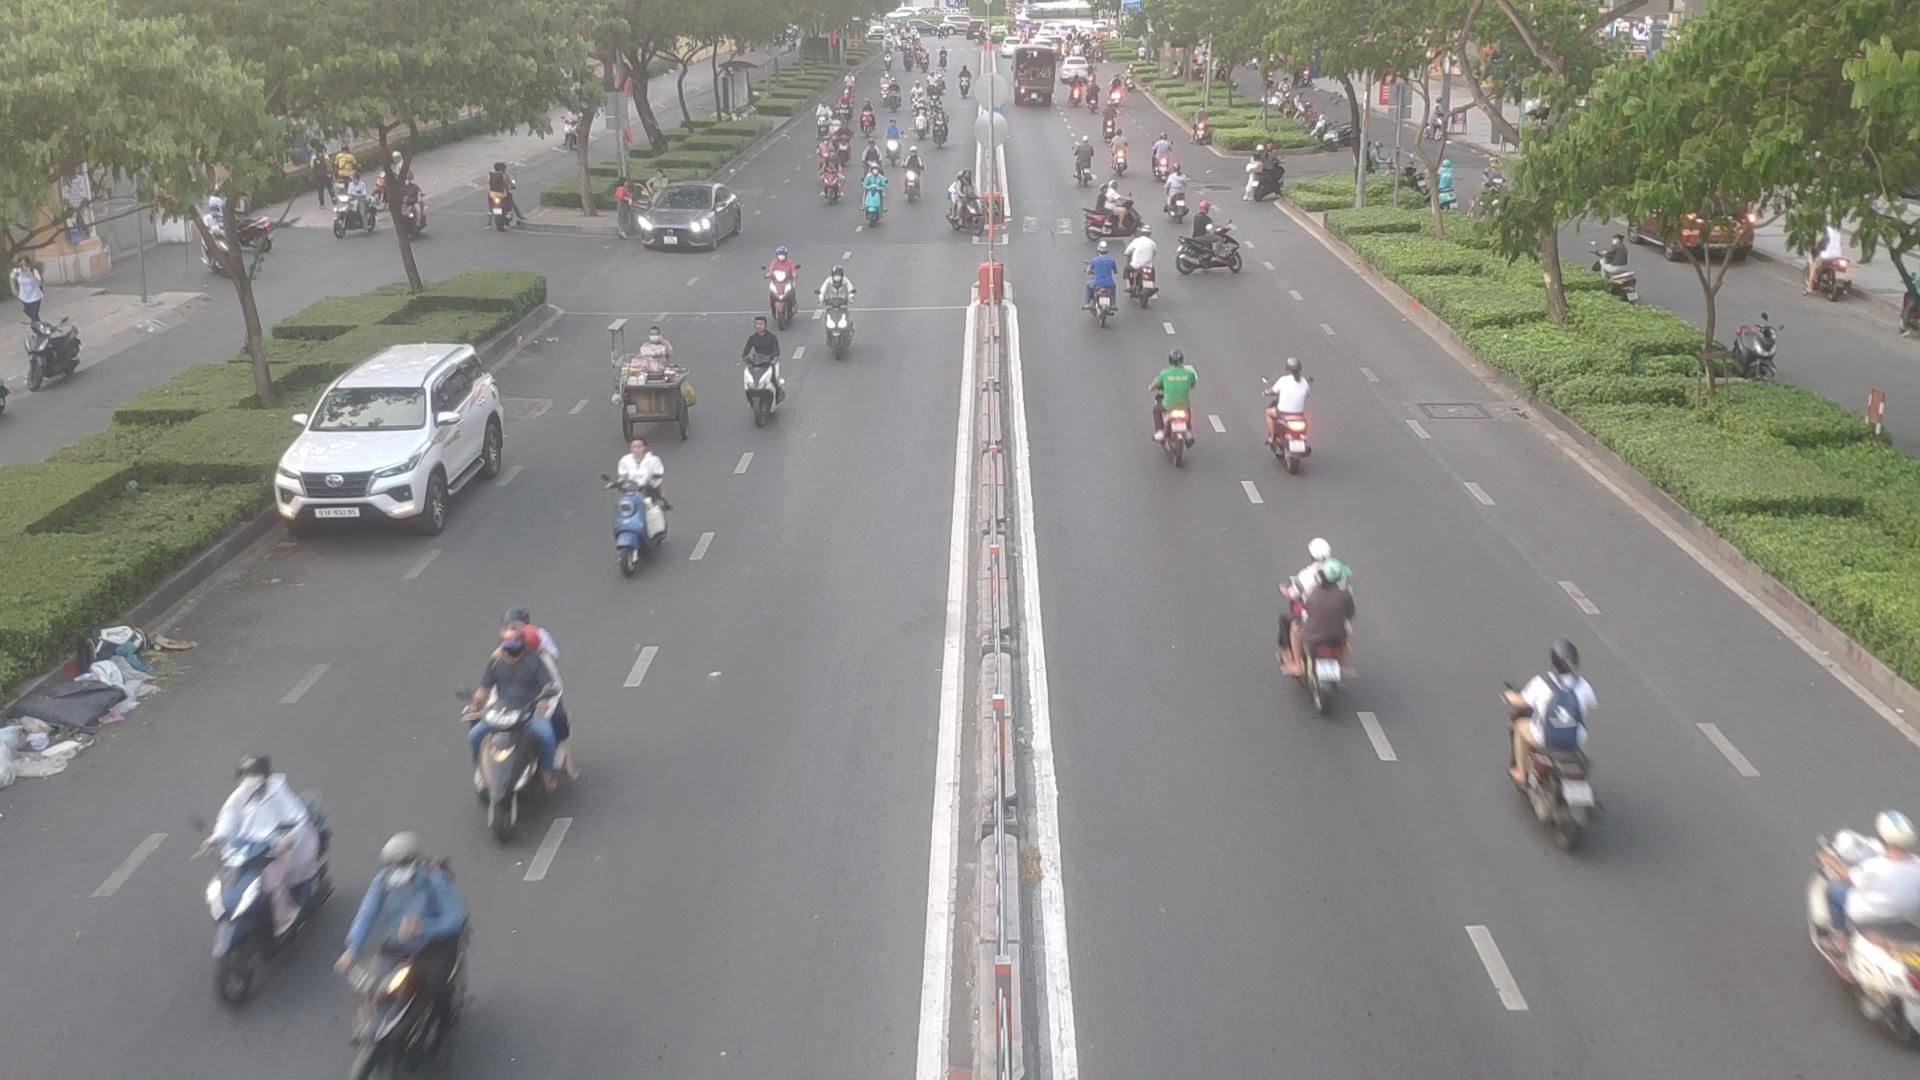car: (276, 339, 518, 527), (620, 189, 749, 255)
motorbike: (177, 762, 324, 997), (342, 847, 479, 1076), (1804, 804, 1920, 1044), (460, 617, 578, 822), (1497, 649, 1610, 837), (1269, 542, 1367, 700), (607, 444, 674, 564), (1135, 351, 1197, 464), (1262, 364, 1317, 469), (733, 322, 790, 423), (816, 269, 868, 359), (1182, 220, 1251, 276), (1080, 191, 1141, 245), (756, 247, 799, 315), (1069, 140, 1102, 187)
